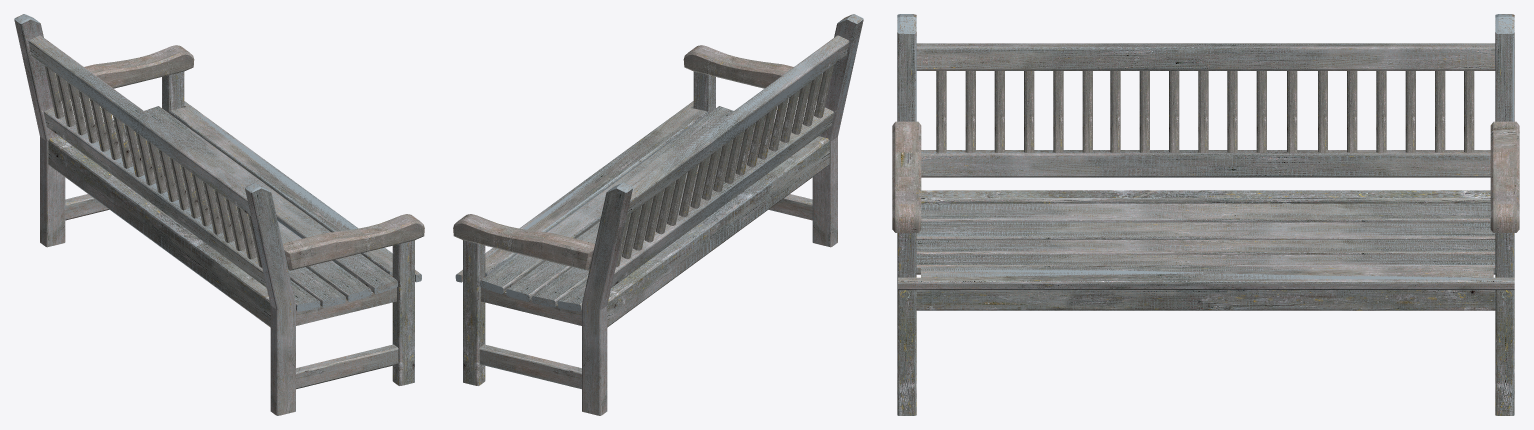
File: bench.fbx
3 renders of one model, left to right at view 1: azimuth 30°, elevation 25°; view 2: azimuth 150°, elevation 25°; view 3: azimuth 270°, elevation 25°, orthographic. The views are drawn at different scales.
Parts seen in each view (by area): view 1: tramek05_1, tramek06_2, tramek03_1, deska03_1, tramek06_1, tramek03_2, deska02_2, tramek02_2, operka_bok1, operka2, tramek04_2, deska02_3 (+24 smaller); view 2: tramek05_1, tramek06_2, tramek03_2, deska03_1, tramek06_1, tramek03_1, deska02_2, tramek02_1, operka_bok2, operka1, tramek04_1, deska02_3 (+24 smaller); view 3: tramek06_2, tramek06_1, deska03_1, tramek01_1, deska02_4, deska02_1, deska02_3, tramek05_1, deska02_2, tramek02_2, tramek02_1, operka1 (+22 smaller).
Boxes of the visible parts, x1=… form: tramek05_1: x1=48, y1=136, x2=270, y2=327; tramek06_2: x1=28, y1=35, x2=250, y2=216; tramek03_1: x1=245, y1=183, x2=295, y2=415; deska03_1: x1=169, y1=101, x2=421, y2=282; tramek06_1: x1=44, y1=107, x2=266, y2=287; tramek03_2: x1=14, y1=14, x2=65, y2=247; deska02_2: x1=144, y1=106, x2=397, y2=294; tramek02_2: x1=392, y1=240, x2=414, y2=385; operka_bok1: x1=286, y1=220, x2=424, y2=270; operka2: x1=55, y1=45, x2=194, y2=100; tramek04_2: x1=296, y1=344, x2=398, y2=389; deska02_3: x1=113, y1=120, x2=371, y2=301; tramek05_1: x1=607, y1=136, x2=829, y2=327; tramek06_2: x1=627, y1=35, x2=849, y2=216; tramek03_2: x1=582, y1=183, x2=632, y2=415; deska03_1: x1=455, y1=101, x2=707, y2=282; tramek06_1: x1=611, y1=107, x2=833, y2=287; tramek03_1: x1=812, y1=14, x2=863, y2=247; deska02_2: x1=480, y1=106, x2=733, y2=294; tramek02_1: x1=463, y1=240, x2=485, y2=385; operka_bok2: x1=453, y1=220, x2=591, y2=270; operka1: x1=683, y1=45, x2=822, y2=101; tramek04_1: x1=479, y1=344, x2=581, y2=389; deska02_3: x1=506, y1=123, x2=755, y2=301; tramek06_2: x1=916, y1=43, x2=1495, y2=70; tramek06_1: x1=921, y1=150, x2=1490, y2=177; deska03_1: x1=898, y1=266, x2=1514, y2=289; tramek01_1: x1=916, y1=290, x2=1495, y2=310; deska02_4: x1=921, y1=203, x2=1490, y2=222; deska02_1: x1=916, y1=222, x2=1495, y2=239; deska02_3: x1=916, y1=239, x2=1495, y2=254; tramek05_1: x1=921, y1=190, x2=1490, y2=203; deska02_2: x1=916, y1=254, x2=1495, y2=274; tramek02_2: x1=897, y1=233, x2=916, y2=415; tramek02_1: x1=1495, y1=233, x2=1514, y2=415; operka1: x1=895, y1=121, x2=921, y2=232.
Bounding box in the file's own units: 35.17 × 45.31 × 85.31.
